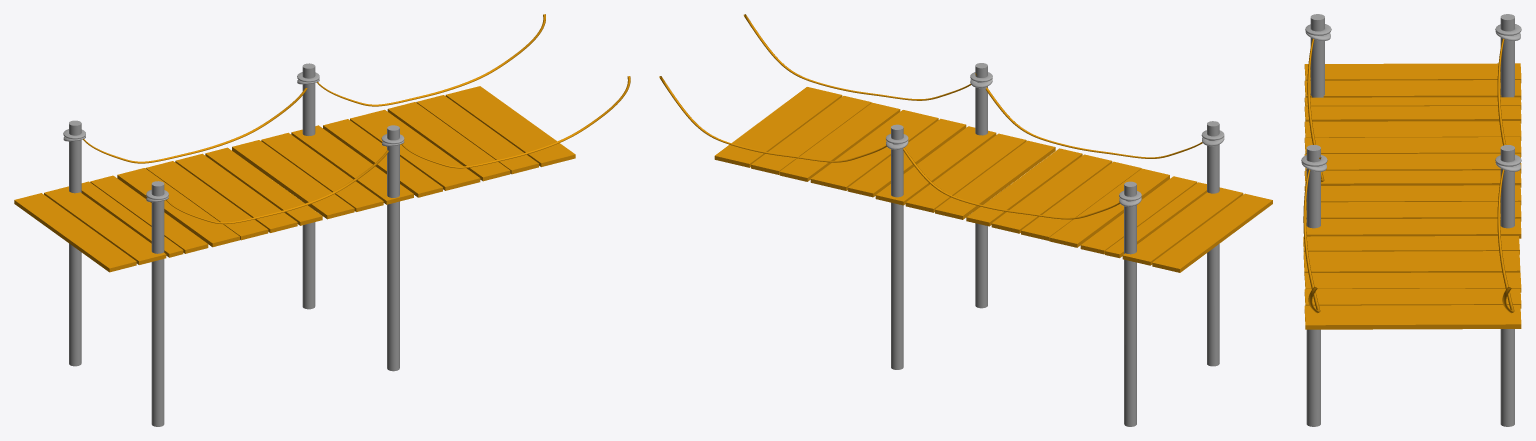
Rendered from obj_dock_02.fbx.
The picture shows the model from 3 angles, left to right: view 1: azimuth 30°, elevation 25°; view 2: azimuth 150°, elevation 25°; view 3: azimuth 270°, elevation 25°; orthographic projection. The views are drawn at different scales.
Visible parts, largest first — view 1: obj_dock_02; view 2: obj_dock_02; view 3: obj_dock_02.
Boxes of the visible parts, box(x1,y1,x2,y2) form: obj_dock_02: box(14, 14, 630, 426); obj_dock_02: box(659, 14, 1272, 426); obj_dock_02: box(1301, 14, 1521, 426).
Size of the model in its own units: 10.1 by 4.41 by 3.19.
